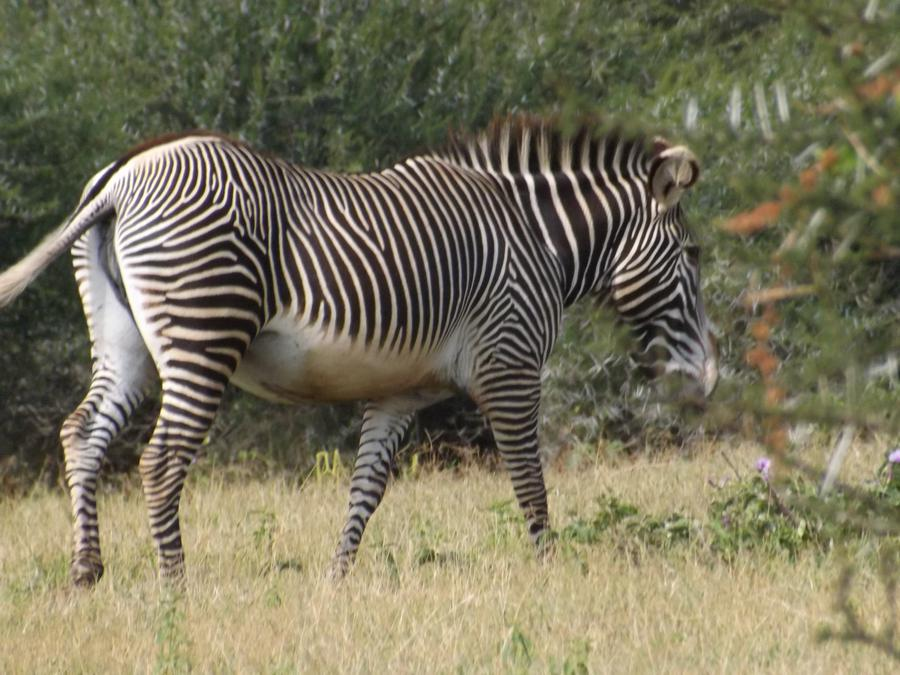zebra_grevys: (109, 147, 549, 375)
